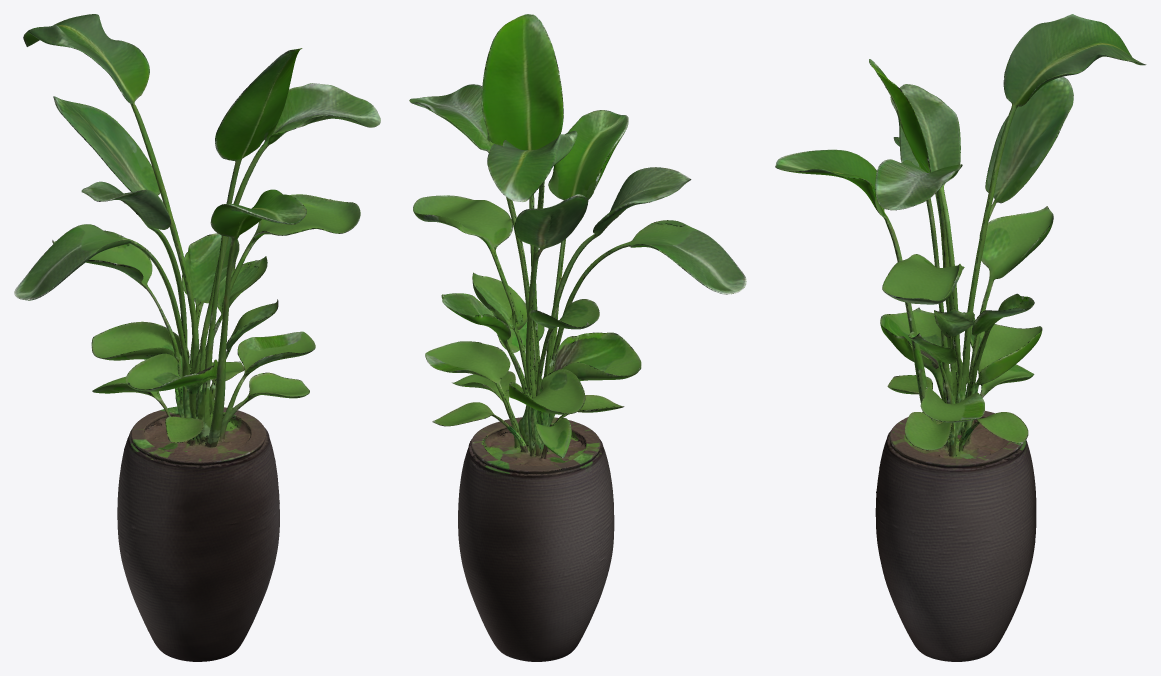
The model's file is base_basic_pbr.glb.
The picture shows the model from 3 angles, left to right: view 1: azimuth 30°, elevation 25°; view 2: azimuth 150°, elevation 25°; view 3: azimuth 270°, elevation 25°; orthographic projection. The views are drawn at different scales.
Parts seen in each view (by area): view 1: model; view 2: model; view 3: model.
Boxes of the visible parts, box(x1,y1,x2,y2) form: model: box(14, 14, 380, 661); model: box(409, 14, 746, 661); model: box(775, 14, 1146, 661).
Size of the model in its own units: 1.13 by 1.9 by 1.05.
Materials: 1 (1 with a texture image).
